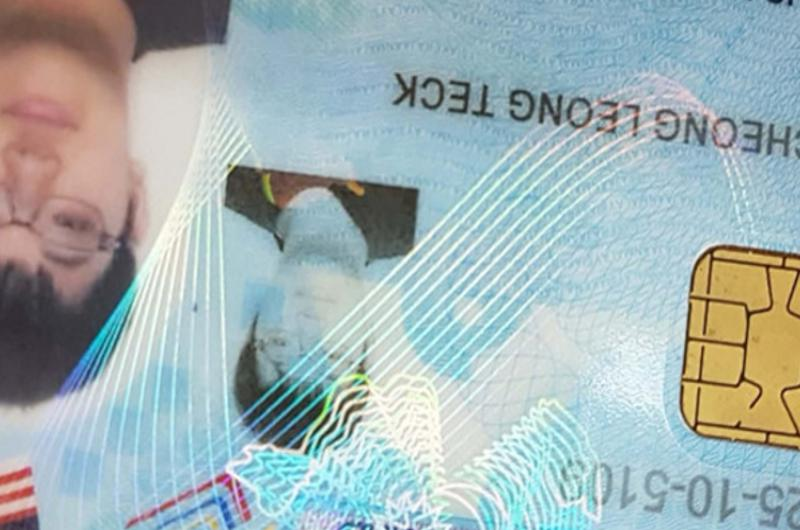hologram: (417, 137, 637, 366)
